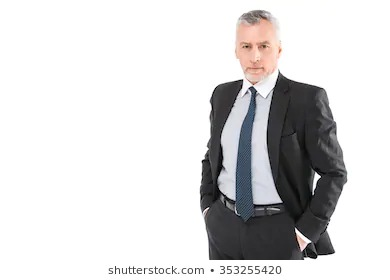F_M_suit jacket: (201, 76, 349, 240)
F_belt: (214, 197, 286, 215)
F_tie: (235, 86, 257, 220)
